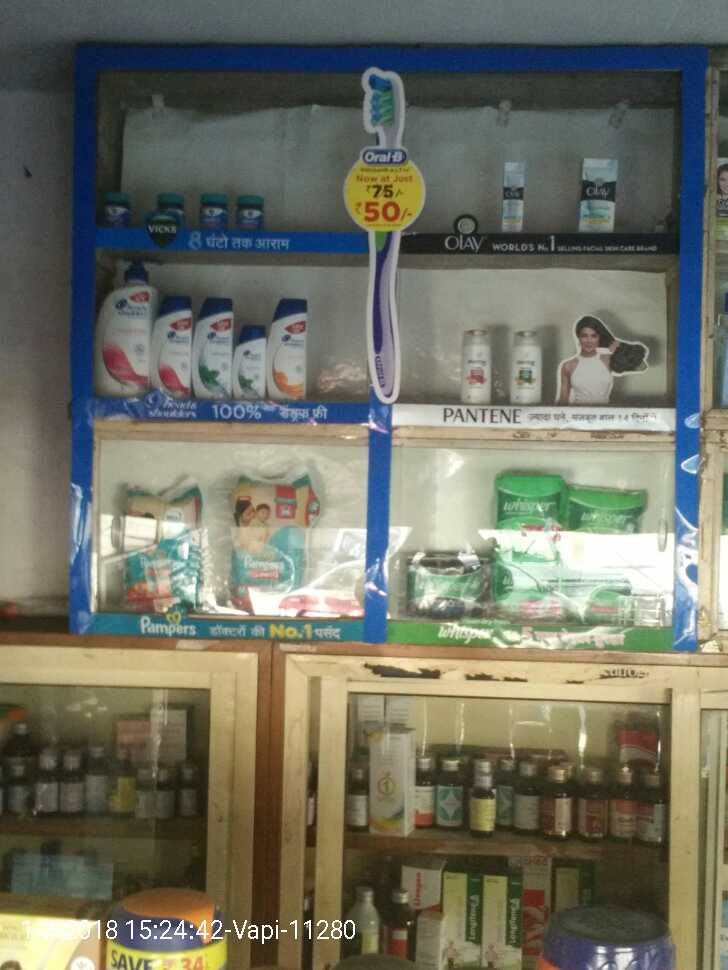beauty: (90, 275, 147, 397), (269, 297, 325, 407), (187, 290, 237, 408), (150, 292, 194, 390), (573, 156, 626, 233), (484, 157, 534, 231), (232, 323, 277, 405), (454, 330, 499, 402), (511, 323, 549, 397)
pharmacy: (223, 476, 325, 635), (119, 481, 210, 605), (485, 457, 559, 543), (404, 551, 498, 617), (568, 481, 639, 548), (232, 191, 269, 229), (98, 192, 134, 230), (195, 196, 226, 231)
